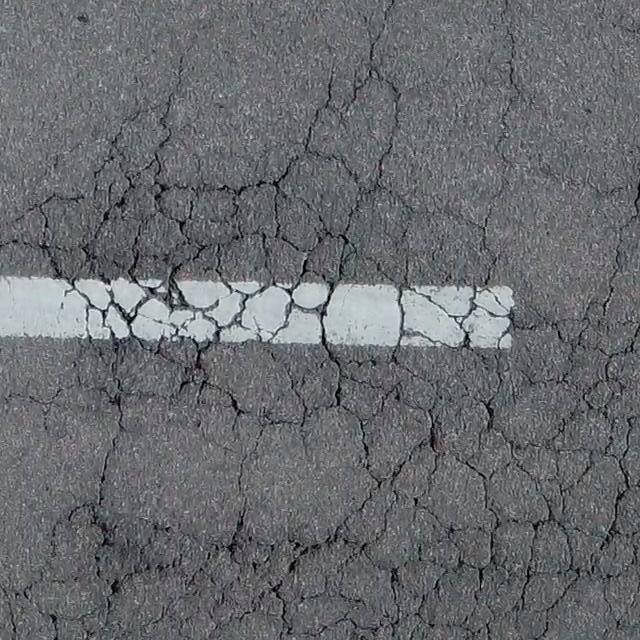GRIETA: (497, 0, 520, 152)
PIEL DE COCODRILO: (0, 0, 639, 639)
